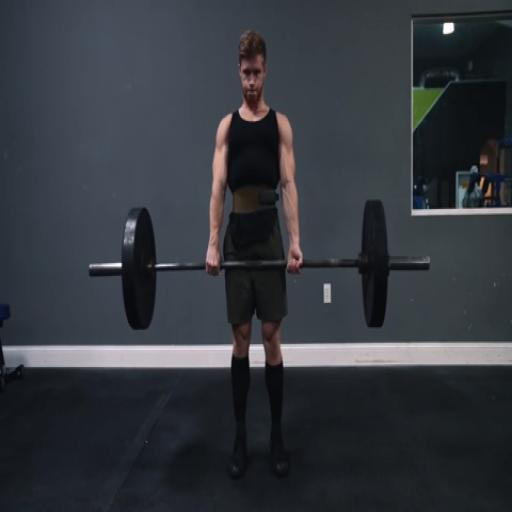exercise: (203, 29, 306, 482)
